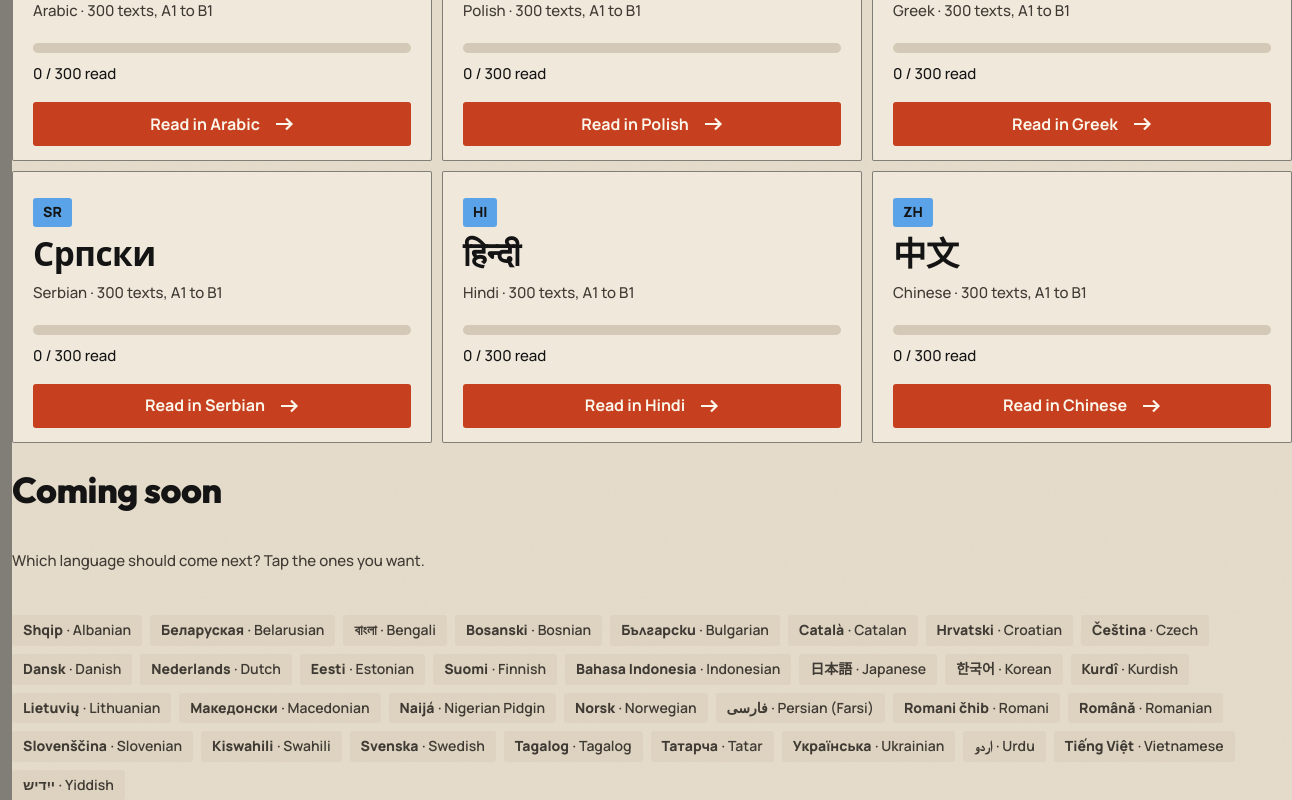
Test: PickerPage language vote › sends one vote and remembers it
(page scrolled)
Click the button "Română · Romanian" at (1146, 708), box [1068,693,1223,723]
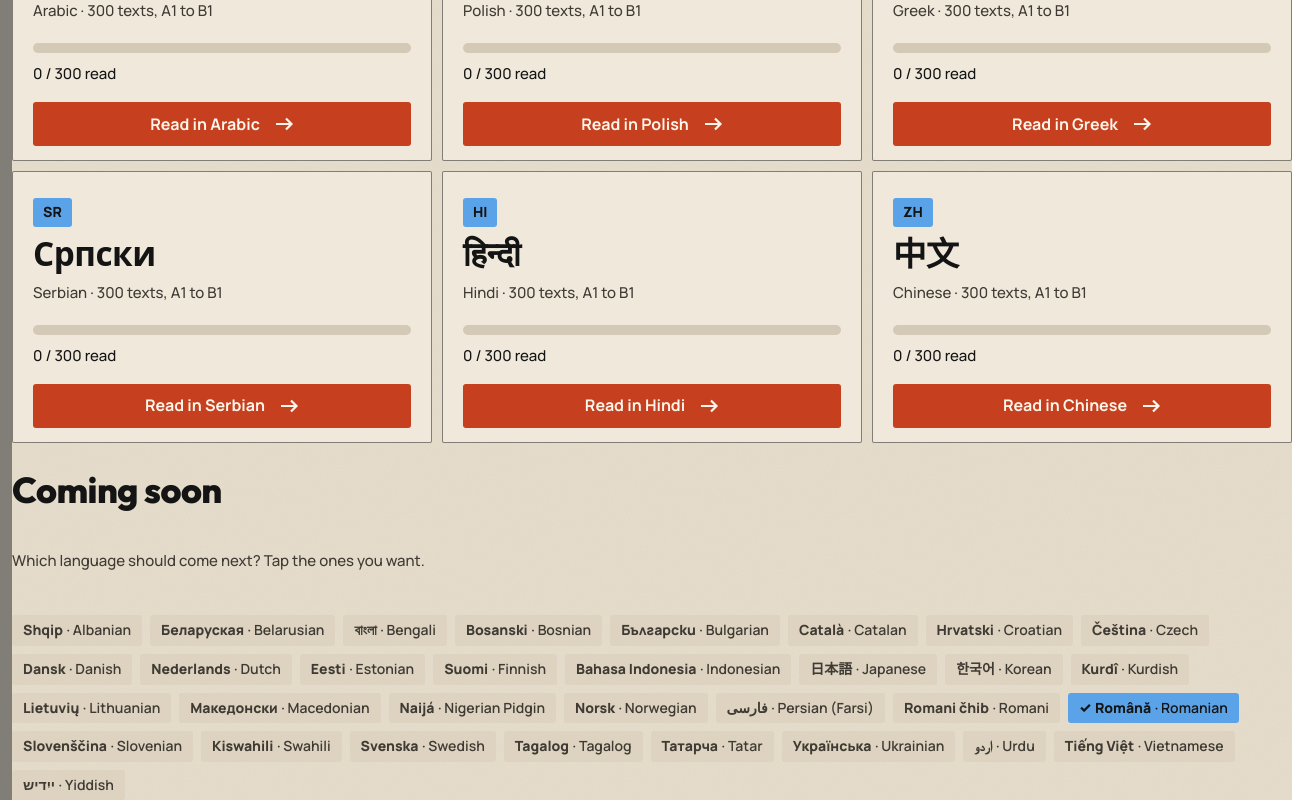
expect the button "✓ Română · Romanian" is disabled: met, box [1068,693,1239,723]
